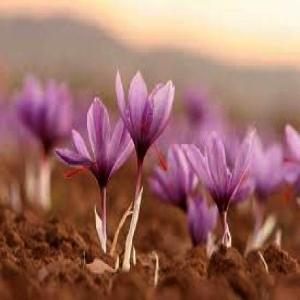Saffron: (59, 95, 138, 195), (116, 68, 176, 166), (183, 133, 257, 212)
